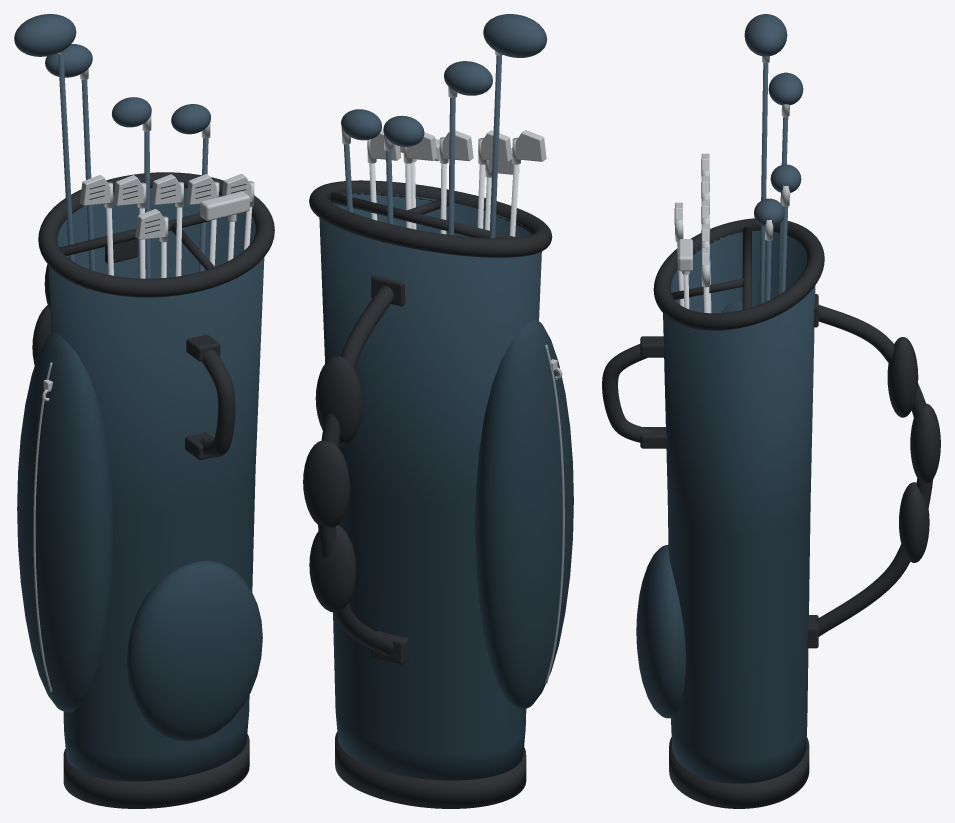
File: full.glb
3 renders of one model, left to right at view 1: azimuth 30°, elevation 25°; view 2: azimuth 150°, elevation 25°; view 3: azimuth 270°, elevation 25°, orthographic. The views are drawn at different scales.
Parts seen in each view (by area): view 1: Hollow tapered bag body, Long convex side pocket, Small lower front pocket, Slanted padded mouth rim, Rigid oval bag floor, Open carry handle, Driver rounded club head, Driver shaft, Mouth divider across, Putter head, Wood rounded club head, HybridA rounded club head (+13 smaller); view 2: Hollow tapered bag body, Long convex side pocket, Slanted padded mouth rim, Rigid oval bag floor, Continuous shoulder strap, Segmented shoulder pad 1, Segmented shoulder pad 2, Segmented shoulder pad 0, Driver rounded club head, Mouth divider across, Wood rounded club head, Driver shaft (+11 smaller); view 3: Hollow tapered bag body, Small lower front pocket, Slanted padded mouth rim, Continuous shoulder strap, Rigid oval bag floor, Open carry handle, Segmented shoulder pad 2, Segmented shoulder pad 0, Segmented shoulder pad 1, Driver rounded club head, Driver shaft, Wood rounded club head (+3 smaller).
Part boxes in pixels (<box>): Hollow tapered bag body: <box>48,188,264,781</box>; Long convex side pocket: <box>17,332,113,712</box>; Small lower front pocket: <box>126,560,262,741</box>; Slanted padded mouth rim: <box>38,172,274,297</box>; Rigid oval bag floor: <box>63,734,249,808</box>; Open carry handle: <box>200,350,235,457</box>; Driver rounded club head: <box>14,14,76,56</box>; Driver shaft: <box>58,54,74,261</box>; Mouth divider across: <box>59,212,245,255</box>; Putter head: <box>200,191,249,220</box>; Wood rounded club head: <box>45,44,92,77</box>; HybridA rounded club head: <box>111,97,151,127</box>; Hollow tapered bag body: <box>319,192,541,780</box>; Long convex side pocket: <box>475,319,573,709</box>; Slanted padded mouth rim: <box>309,180,552,257</box>; Rigid oval bag floor: <box>335,732,526,808</box>; Continuous shoulder strap: <box>318,286,393,655</box>; Segmented shoulder pad 1: <box>303,440,350,528</box>; Segmented shoulder pad 2: <box>315,356,362,445</box>; Segmented shoulder pad 0: <box>309,525,356,612</box>; Driver rounded club head: <box>483,14,547,57</box>; Mouth divider across: <box>330,192,516,238</box>; Wood rounded club head: <box>444,61,492,95</box>; Driver shaft: <box>489,55,501,238</box>; Hollow tapered bag body: <box>663,230,815,783</box>; Small lower front pocket: <box>636,545,685,718</box>; Slanted padded mouth rim: <box>653,218,824,330</box>; Continuous shoulder strap: <box>815,305,933,636</box>; Rigid oval bag floor: <box>669,737,809,808</box>; Open carry handle: <box>602,344,655,442</box>; Segmented shoulder pad 2: <box>887,337,918,417</box>; Segmented shoulder pad 0: <box>899,482,929,562</box>; Segmented shoulder pad 1: <box>910,403,940,483</box>; Driver rounded club head: <box>744,14,787,56</box>; Driver shaft: <box>759,63,768,304</box>; Wood rounded club head: <box>768,72,803,105</box>.
Bounding box in the file's own units: 0.3748 × 1.17 × 0.5074.
